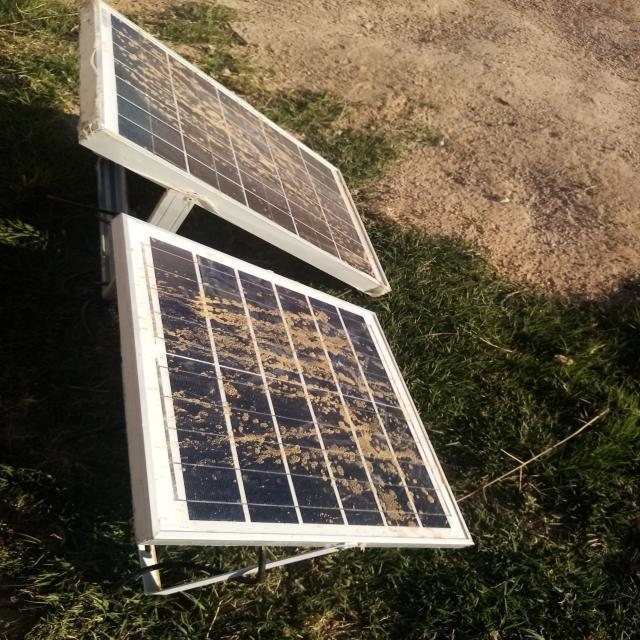Anomaly Solar Panel: (140, 232, 465, 535), (105, 10, 382, 284)
Surface Contaminant: (151, 254, 442, 527), (108, 22, 380, 279)
